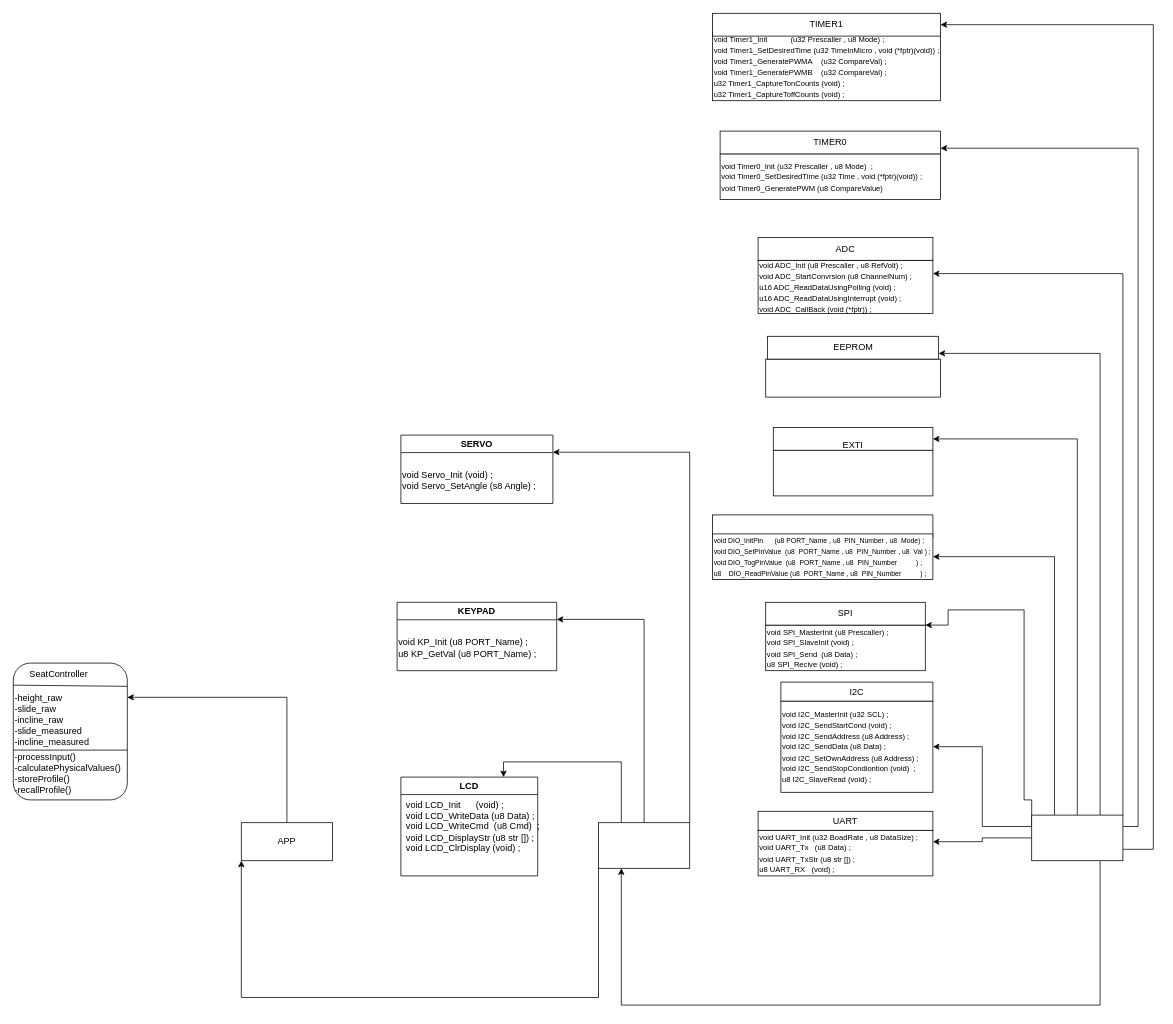
The diagram is 1173 pixels wide and 1024 high, and some of its shapes have lost their labels. The centre of each missing label's shape, as x and y in pixels:
"DIO" goes at point 822,526.
"HaL" goes at point 644,845.
"MCAL Drivers" goes at point 1077,837.
"void EEPROM_Write (u16 Address , u8 Data) ; u8 EEPROM_Read (u16 Address) ;" goes at point 852,377.
"void EXTI0_Init (u8 Sense) ; void EXTI0_CallBack (void (*fptr)(void)) ;" goes at point 853,473.
